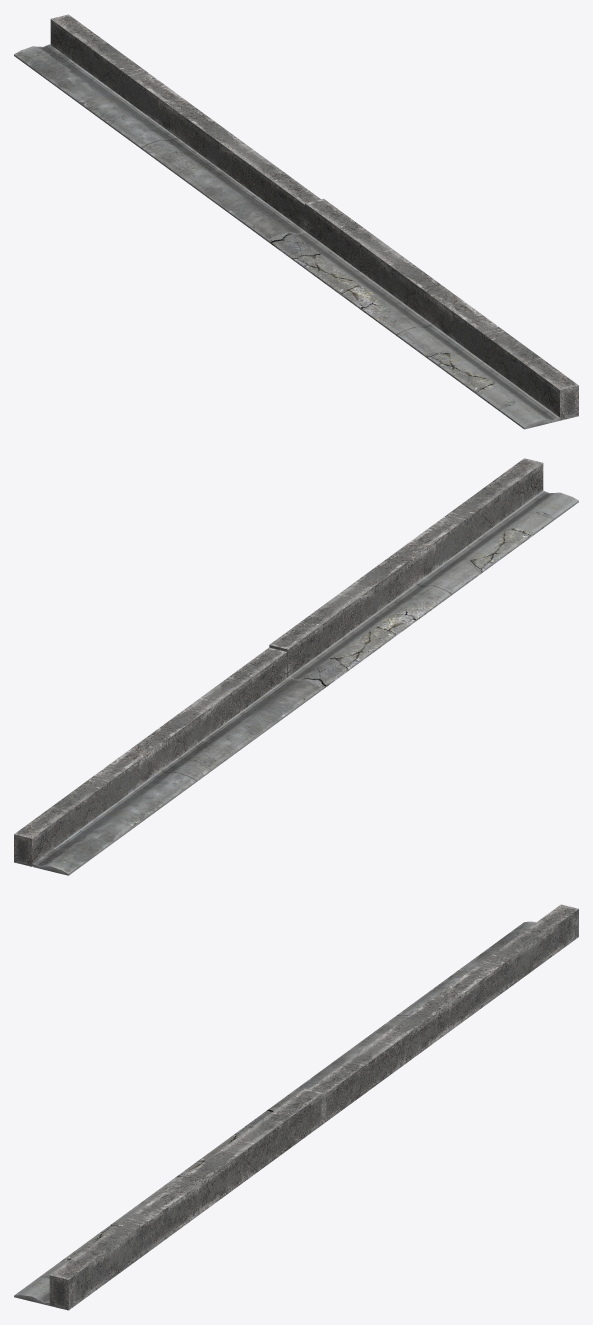
Rendered from HH_Curbstone_A_4m.fbx.
3 renders of one model, top to bottom at view 1: azimuth 30°, elevation 25°; view 2: azimuth 150°, elevation 25°; view 3: azimuth 330°, elevation 25°, orthographic.
Visible parts, largest first — view 1: HH_Curbstone_A_4m; view 2: HH_Curbstone_A_4m; view 3: HH_Curbstone_A_4m.
Part boxes in pixels (x1,y1,x2,y2): HH_Curbstone_A_4m: (14, 14, 578, 429); HH_Curbstone_A_4m: (14, 458, 578, 875); HH_Curbstone_A_4m: (14, 904, 578, 1310).
Bounding box in the file's own units: 24.72 × 13.28 × 400.
